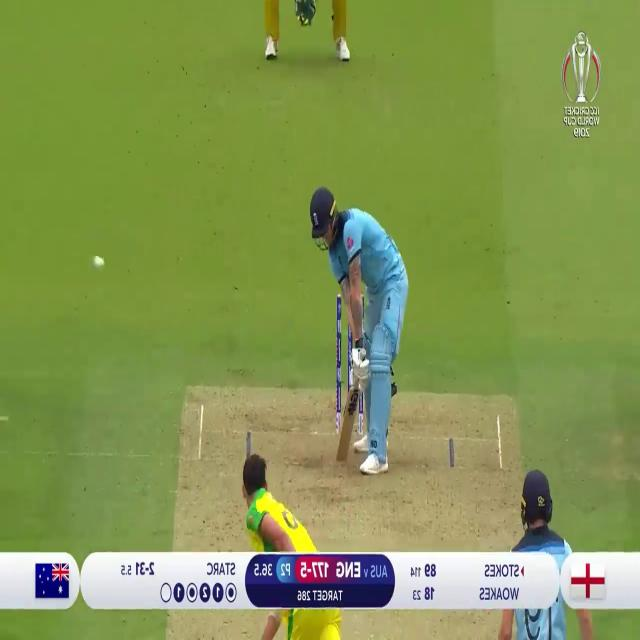ball: (91, 250, 107, 271)
